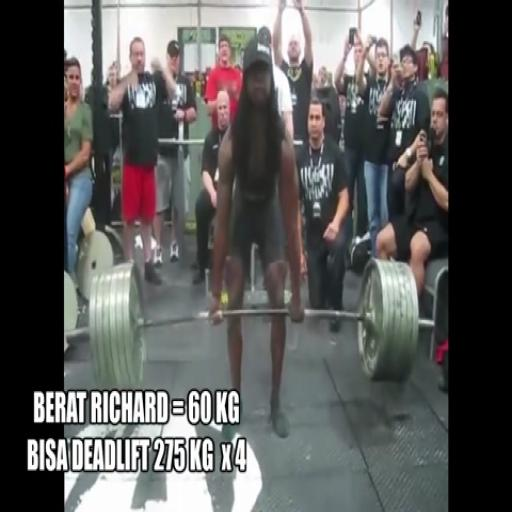exercise: (205, 34, 307, 441), (104, 34, 182, 289), (373, 87, 449, 311), (292, 96, 354, 334), (62, 54, 97, 284), (269, 0, 317, 152)
